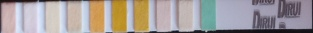color 1: (2, 3, 14, 32)
color 10: (202, 1, 214, 28)
color 2: (24, 4, 36, 31)
color 3: (46, 3, 58, 31)
color 4: (68, 3, 80, 31)
color 5: (91, 2, 103, 32)
color 6: (113, 1, 125, 31)
color 7: (135, 1, 147, 30)
color 8: (157, 1, 169, 30)
color 9: (180, 1, 192, 30)
